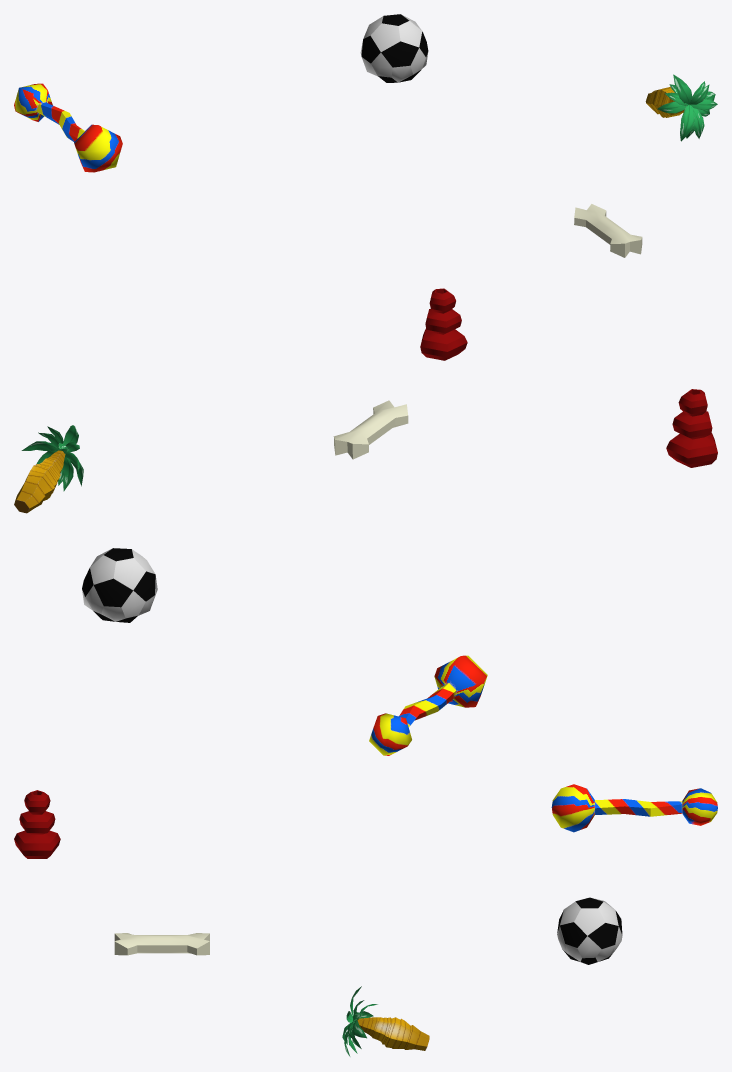
Rendered from Toys.fbx.
3 views of the same model, one above another, from view 1: azimuth 30°, elevation 25°; view 2: azimuth 150°, elevation 25°; view 3: azimuth 270°, elevation 25° (orthographic). The views are drawn at different scales.
Parts seen in each view (by area): view 1: Ball, RopeToy, PalmTree2, Kong, Bone; view 2: Ball, RopeToy, PalmTree2, Kong, Bone; view 3: RopeToy, Ball, PalmTree2, Kong, Bone.
Part boxes in pixels (<box>): Ball: <box>360,14,428,82</box>; RopeToy: <box>14,83,122,172</box>; PalmTree2: <box>645,74,717,141</box>; Kong: <box>420,288,467,360</box>; Bone: <box>574,204,642,257</box>; Ball: <box>82,548,157,622</box>; RopeToy: <box>369,655,487,755</box>; PalmTree2: <box>14,425,83,513</box>; Kong: <box>666,389,717,467</box>; Bone: <box>333,400,408,459</box>; RopeToy: <box>551,784,717,832</box>; Ball: <box>557,897,622,964</box>; PalmTree2: <box>342,986,429,1056</box>; Kong: <box>14,790,60,858</box>; Bone: <box>114,933,209,955</box>.
Size of the model in its own units: 77.76 by 10.37 by 92.55.
Materials: 7 (3 with a texture image).
